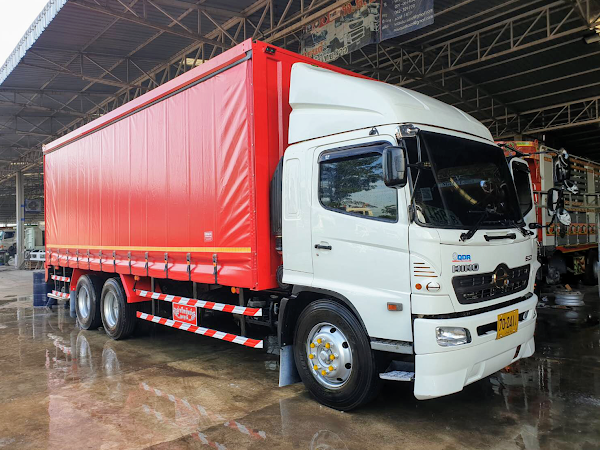truck: (41, 38, 541, 411)
